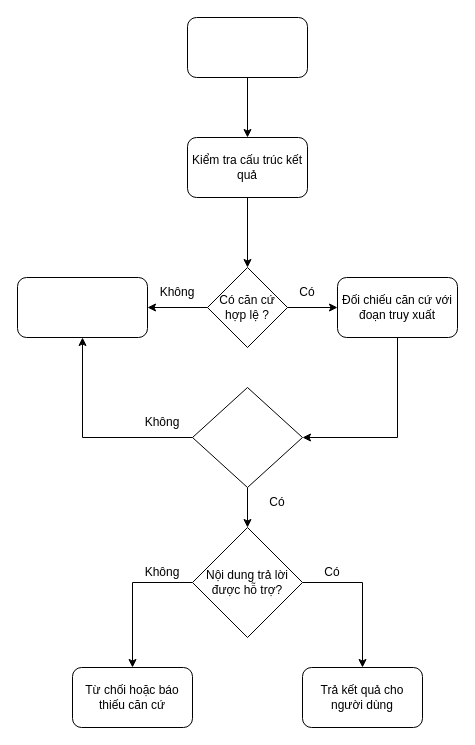
Some shapes in this 475 by 745 pixel diagram are drawn without their labels. The centre of each missing label's shape, as x and y in pixels:
Câu trả lời vừa tạo: (x=247, y=47)
Đánh dấu thiếu căn cứ: (x=82, y=307)
Đúng văn bản, Điều, Khoản, Điểm?: (x=247, y=437)
